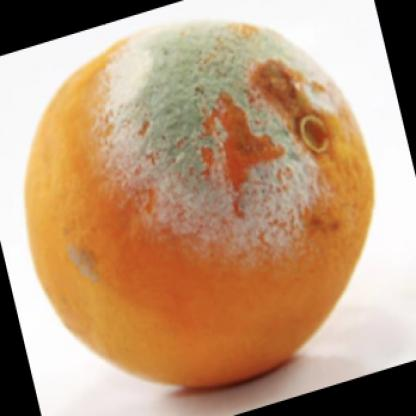rotten_orange: (23, 8, 379, 394)
